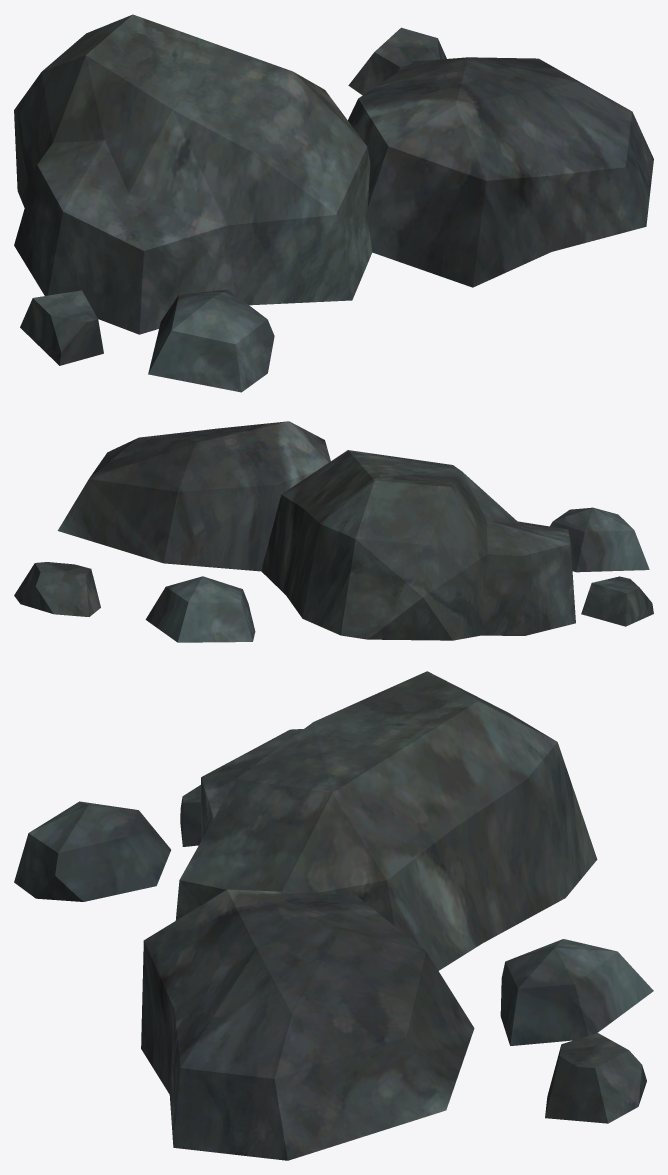
File: object_rubble14.fbx
3 views of the same model, one above another, from view 1: azimuth 30°, elevation 25°; view 2: azimuth 150°, elevation 25°; view 3: azimuth 270°, elevation 25° (orthographic). The views are drawn at different scales.
Parts seen in each view (by area): view 1: obj0.088; view 2: obj0.088; view 3: obj0.088.
Boxes of the visible parts, x1,y1,x2,y2 form: obj0.088: (14,14,653,392); obj0.088: (14,421,653,642); obj0.088: (14,671,653,1160).
Size of the model in its own units: 2.48 by 0.7793 by 1.87.
